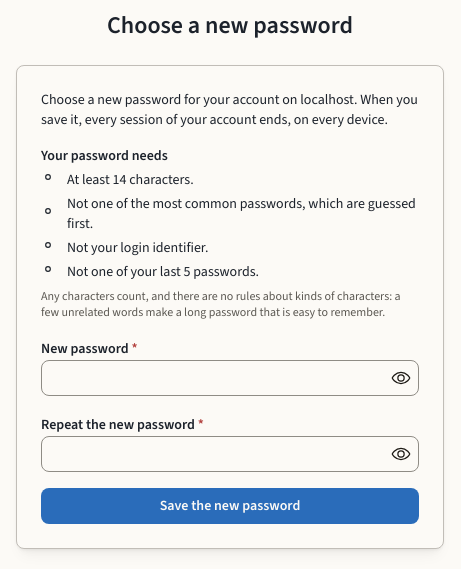
Test: the password forms › save a new password once with a recovery link and say every session ended [TF-017 AC1, ADR-0046]
This screenshot has width=461, height=569.
Click the password field labelled "New password *" at x=230, y=378, box [42,361,418,395]
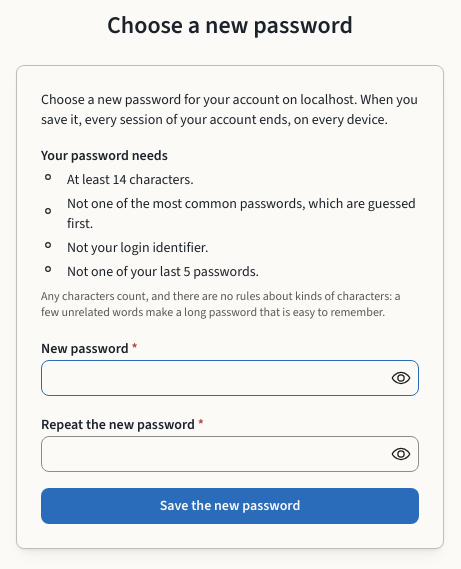
Type keys "a brand new passphrase"
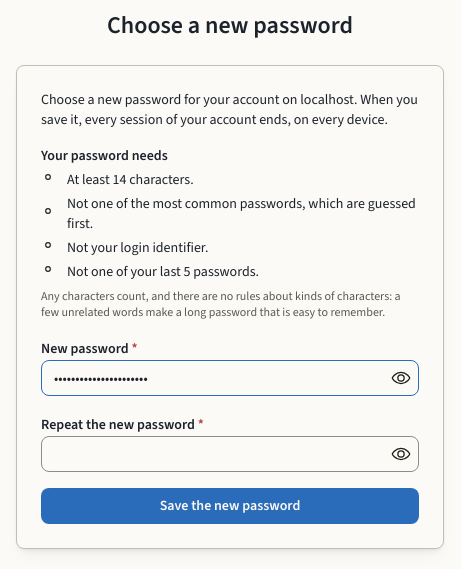
Click the password field labelled "Repeat the new password *" at x=230, y=454, box [42,437,418,471]
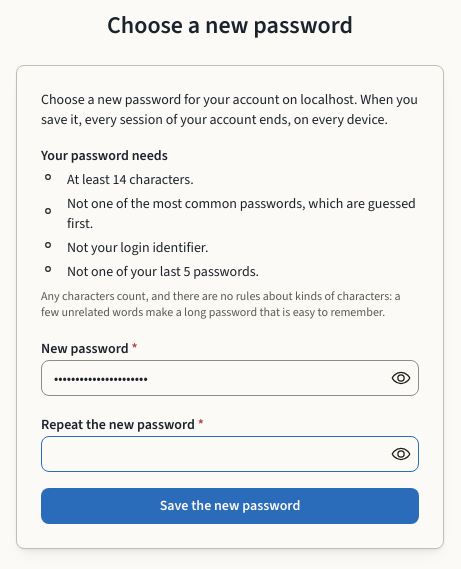
Type keys "a brand new passphrase"
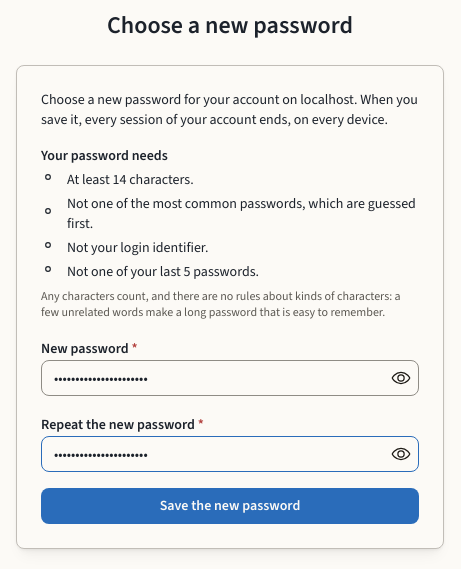
Click the button "Save the new password" at x=230, y=506, box [41,488,419,524]
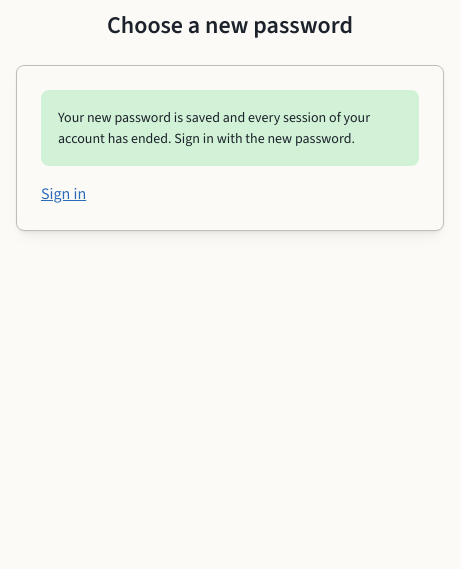
Result: the text "every session of your account has ended" is shown at [58,108,370,148]
